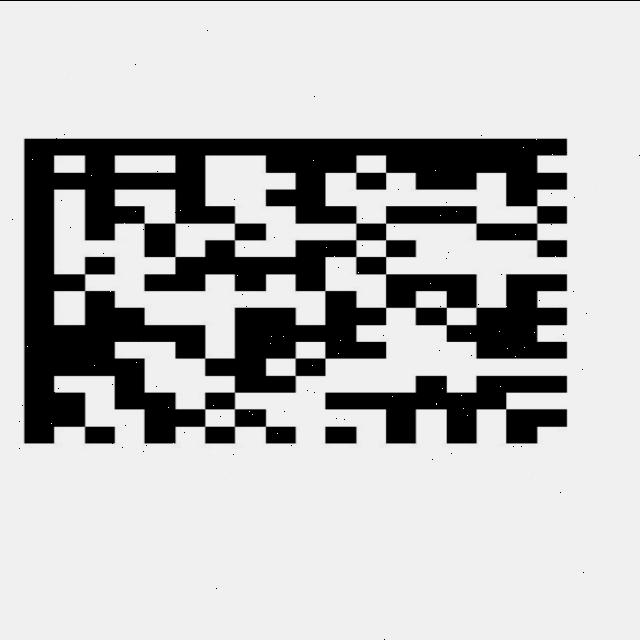datamatrix: (0, 128, 589, 455)
